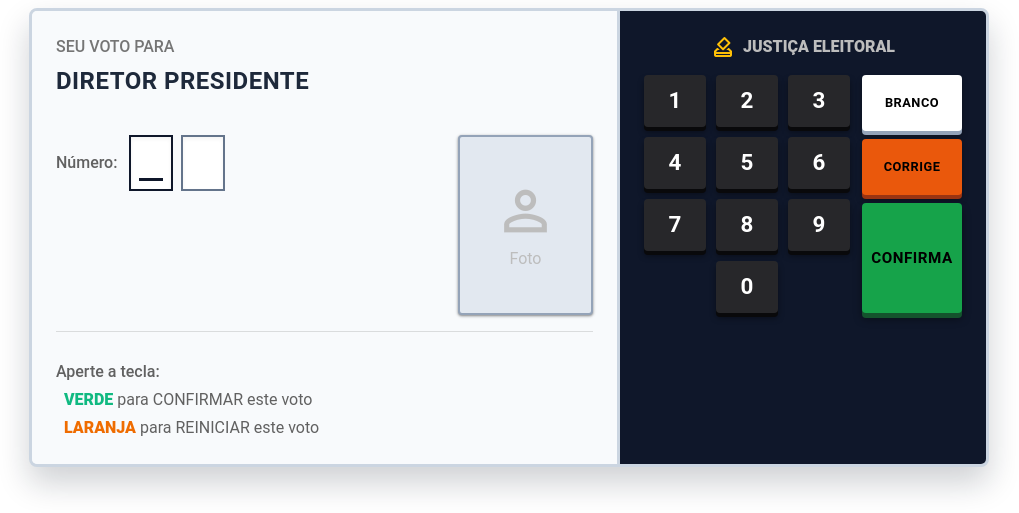
it: VirtualBallotBox Component › displays candidate without photo with fallback label Sem Foto
Click the button with class "key-num" showing "2" at (747, 101), box [716, 75, 778, 127]
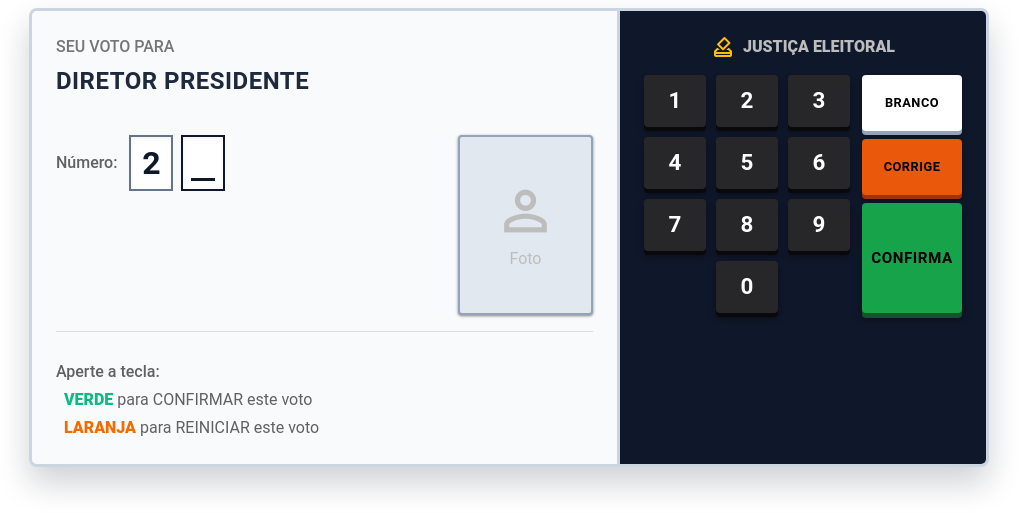
Click the button with class "key-num" showing "0" at (747, 287), box [716, 261, 778, 313]
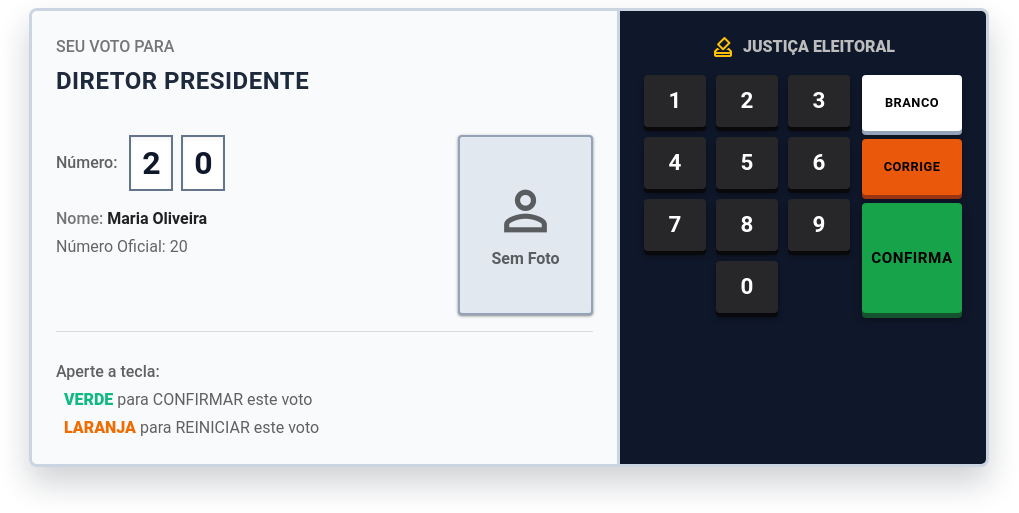
Expected: the text "Maria Oliveira" is shown, [107, 209, 207, 228]
Expected: the text "Sem Foto" is shown, [491, 247, 560, 271]
